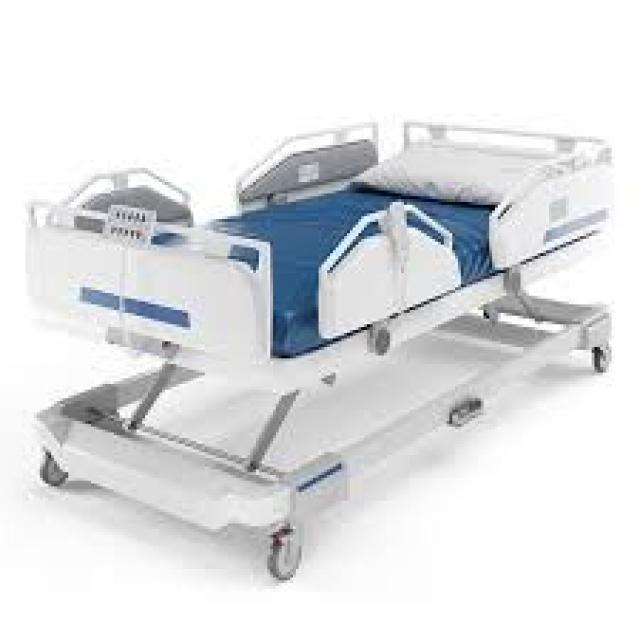patient_bed: (63, 177, 613, 457)
